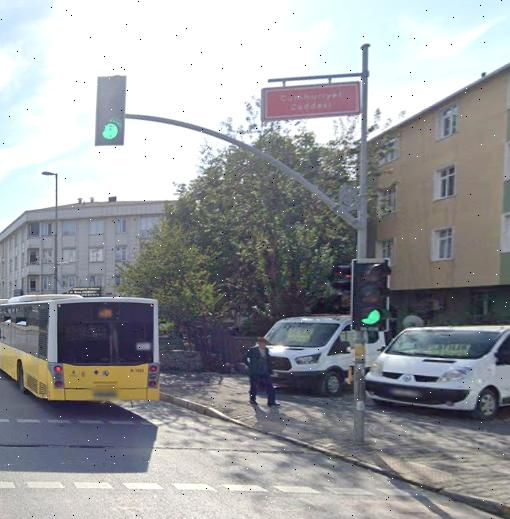greenlight: (354, 261, 389, 329), (99, 76, 127, 147)
